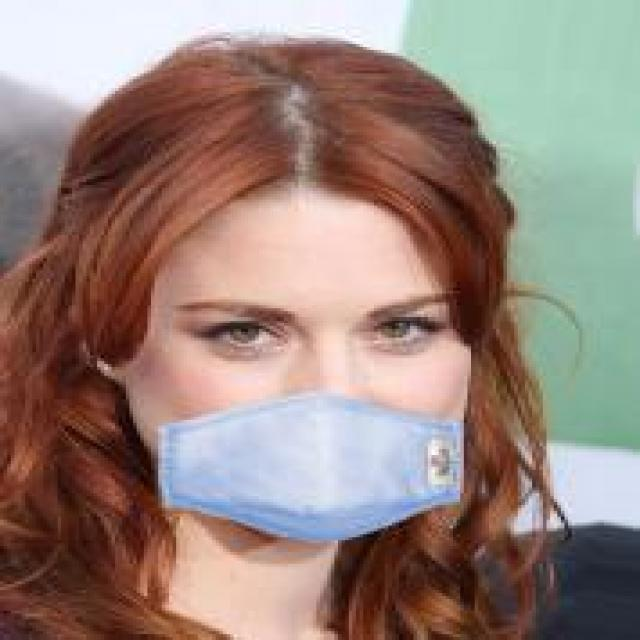mask: (76, 132, 522, 564)
